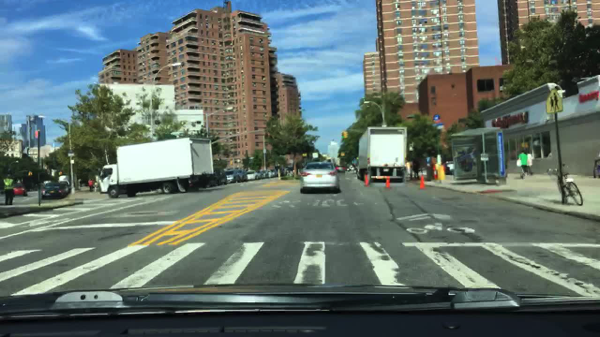bike: (546, 163, 583, 206), (592, 158, 598, 178)
car: (41, 182, 67, 200), (11, 183, 29, 196), (224, 169, 239, 184), (235, 169, 248, 182), (444, 160, 456, 173), (244, 169, 258, 180), (58, 180, 71, 191), (261, 169, 272, 178), (254, 170, 264, 179), (335, 165, 346, 172), (269, 169, 277, 177), (285, 169, 293, 176), (349, 165, 354, 171)
person: (3, 173, 15, 206), (516, 150, 528, 180), (411, 157, 422, 180), (525, 152, 534, 176), (88, 177, 94, 192)
traffic light: (340, 131, 345, 140), (27, 169, 32, 177), (344, 131, 349, 138)
traffic sign: (542, 88, 565, 113), (432, 114, 441, 122), (67, 149, 74, 157), (311, 152, 319, 158), (434, 125, 443, 130), (33, 130, 39, 137)
truck: (97, 136, 214, 199), (356, 126, 408, 182)
